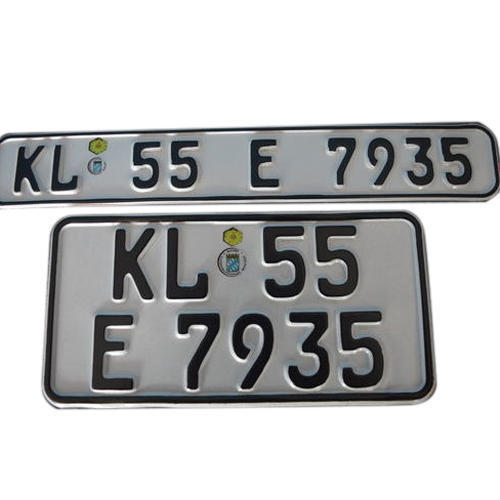doublelinenumberplate: (44, 213, 436, 404)
numberplate: (1, 120, 496, 208)
